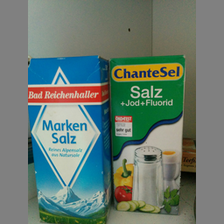spicesw: (28, 56, 109, 224), (109, 55, 187, 215)
